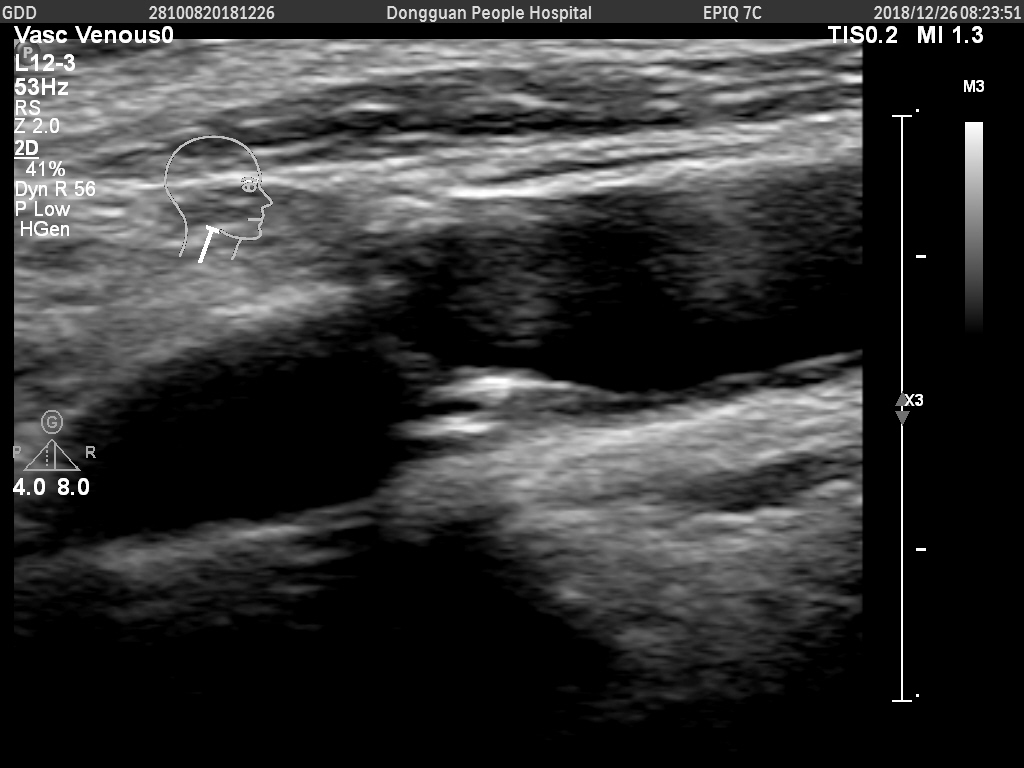plaque: (384, 364, 634, 458)
pseudomorphism: (448, 212, 603, 335)
vessel: (295, 176, 695, 497)
